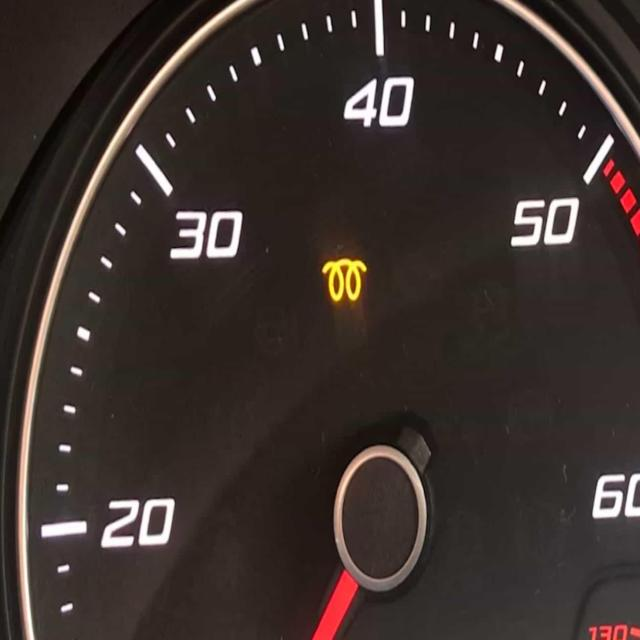kontrolka: (304, 233, 378, 334)
